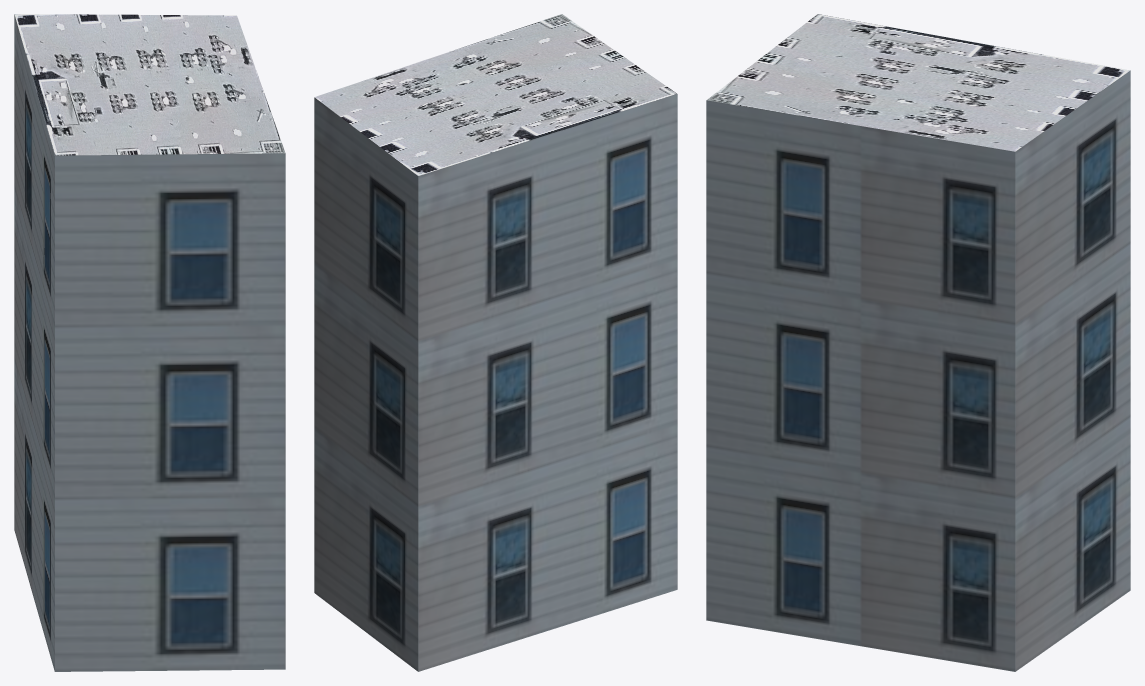
The model's file is ResTex__5107.fbx.
3 renders of one model, left to right at view 1: azimuth 30°, elevation 25°; view 2: azimuth 150°, elevation 25°; view 3: azimuth 270°, elevation 25°, orthographic. The views are drawn at different scales.
Visible parts, largest first — view 1: CityEngineMaterial_18_m, CityEngineMaterial_m; view 2: CityEngineMaterial_18_m, CityEngineMaterial_m; view 3: CityEngineMaterial_18_m, CityEngineMaterial_m.
Boxes of the visible parts, left/top/right/bottom form: CityEngineMaterial_18_m: left=14, top=14, right=285, bottom=671; CityEngineMaterial_m: left=14, top=14, right=285, bottom=155; CityEngineMaterial_18_m: left=314, top=94, right=677, bottom=671; CityEngineMaterial_m: left=314, top=14, right=676, bottom=175; CityEngineMaterial_18_m: left=706, top=70, right=1130, bottom=671; CityEngineMaterial_m: left=707, top=14, right=1129, bottom=151.
Bounding box in the file's own units: 5.11 × 9 × 6.65.
2 materials, 2 textured.
